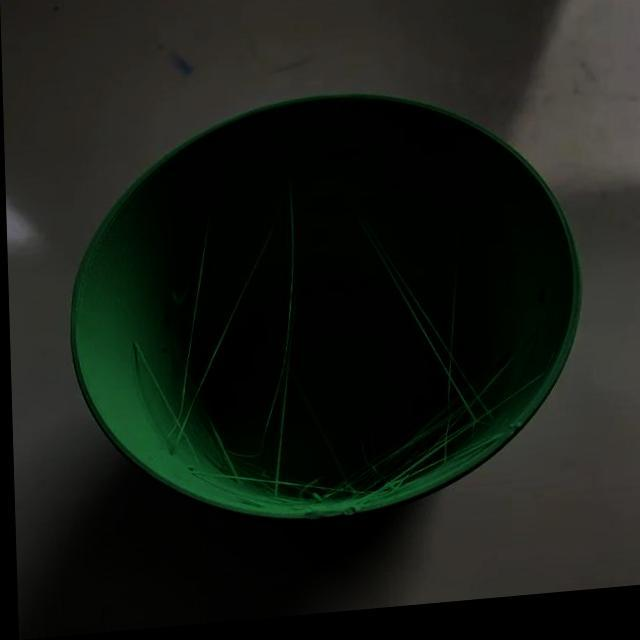stringing: (348, 204, 498, 443), (324, 360, 523, 506), (167, 220, 282, 439), (263, 179, 301, 503)
